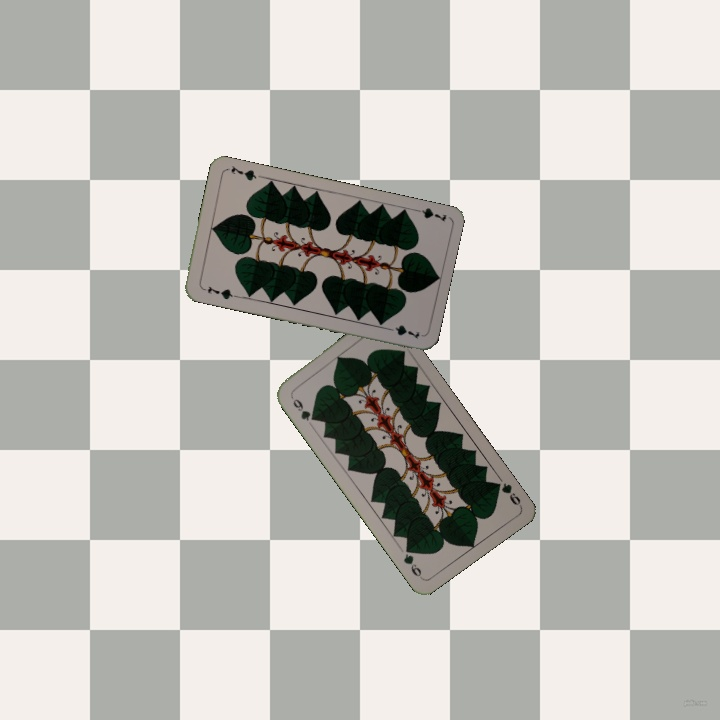G7: (408, 204, 449, 224), (203, 282, 238, 302)
G9: (490, 478, 524, 509), (289, 395, 318, 424)
